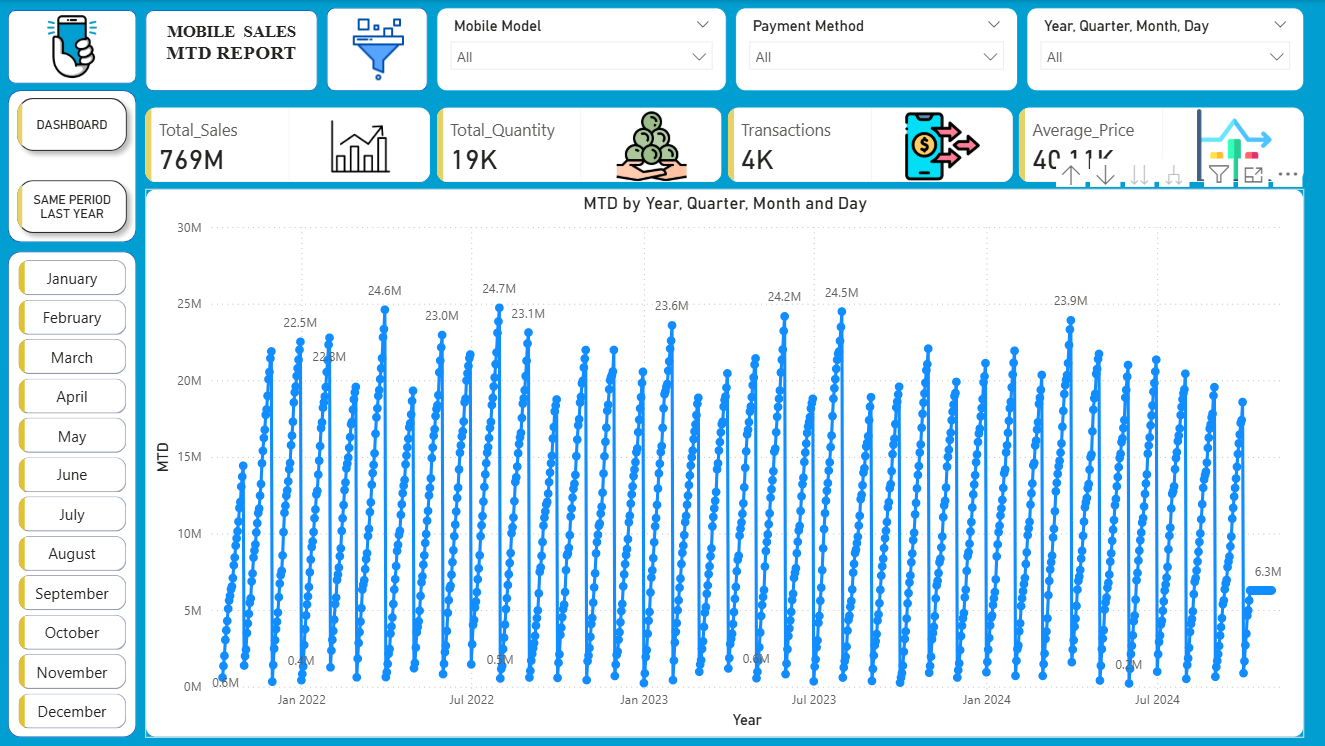

This screenshot's page, from the dashboard's own definition file:
{"tool":"powerbi","page":{"name":"MTD REPORT","canvas":[1280,720],"ordinal":1},"visuals":[{"type":"shape","box":[8.4,9.7,124.3,71.2],"z":0},{"type":"image","box":[19.3,4.8,102.5,80.8],"z":1000},{"type":"shape","box":[8.4,86.9,124.3,147.2],"z":2000},{"type":"shape","box":[8.4,242.5,124.3,469.3],"z":3000},{"type":"advancedSlicerVisual","fields":{"Values":["Custom_Calendar.Date.Variation.Date Hierarchy.Month"]},"box":[8.4,250.9,124.3,460.9],"z":4000},{"type":"cardVisual","fields":{"Data":["Mobile Sales Data.Total_Sales","Mobile Sales Data.Total_Quantity","Mobile Sales Data.Transactions","Mobile Sales Data.Average_Price"]},"box":[124.3,86.9,1155.8,106.2],"z":5000},{"type":"slicer","fields":{"Values":["Mobile Sales Data.Mobile Model"]},"box":[422.3,7.2,279.9,80.8],"z":6000},{"type":"slicer","fields":{"Values":["Mobile Sales Data.Payment Method"]},"box":[710.6,7.2,272.7,80.8],"z":7000},{"type":"shape","box":[316.1,7.2,97.7,80.8],"z":8000},{"type":"slicer","fields":{"Values":["Custom_Calendar.Date.Variation.Date Hierarchy.Year","Custom_Calendar.Date.Variation.Date Hierarchy.Quarter","Custom_Calendar.Date.Variation.Date Hierarchy.Month","Custom_Calendar.Date.Variation.Date Hierarchy.Day"]},"box":[991.7,7.2,267.8,80.8],"z":9000},{"type":"image","box":[329.4,16.9,73.6,61.5],"z":10000},{"type":"shape","box":[141.2,9.7,166.5,78.4],"z":11000},{"type":"textbox","box":[149.6,16.9,149.6,70],"z":12000},{"type":"lineChart","fields":{"Y":["Mobile Sales Data.MTD"],"Category":["Custom_Calendar.Date.Variation.Date Hierarchy.Year","Custom_Calendar.Date.Variation.Date Hierarchy.Quarter","Custom_Calendar.Date.Variation.Date Hierarchy.Month","Custom_Calendar.Date.Variation.Date Hierarchy.Day"]},"box":[141.2,182.2,1118.4,529.6],"z":13000},{"type":"pageNavigator","box":[8.4,85.7,124.3,148.4],"z":14000}]}

Visuals, with their boxes in screenshot pixels (x1, y1, x2, y2), scaled from the page's 1280x720 canvas onto the 1325x746 screenshot:
shape: rect(9, 10, 137, 84)
image: rect(20, 5, 126, 89)
shape: rect(9, 90, 137, 243)
shape: rect(9, 251, 137, 738)
advancedSlicerVisual - Custom_Calendar.Date.Variation.Date Hierarchy.Month: rect(9, 260, 137, 738)
cardVisual - Mobile Sales Data.Total_Sales x Mobile Sales Data.Total_Quantity: rect(129, 90, 1324, 200)
slicer - Mobile Sales Data.Mobile Model: rect(437, 7, 727, 91)
slicer - Mobile Sales Data.Payment Method: rect(736, 7, 1018, 91)
shape: rect(327, 7, 428, 91)
slicer - Custom_Calendar.Date.Variation.Date Hierarchy.Year x Custom_Calendar.Date.Variation.Date Hierarchy.Quarter: rect(1027, 7, 1304, 91)
image: rect(341, 18, 417, 81)
shape: rect(146, 10, 319, 91)
textbox: rect(155, 18, 310, 90)
lineChart - Mobile Sales Data.MTD x Custom_Calendar.Date.Variation.Date Hierarchy.Year: rect(146, 189, 1304, 738)
pageNavigator: rect(9, 89, 137, 243)
